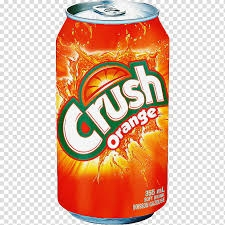metal: (51, 1, 174, 223)
